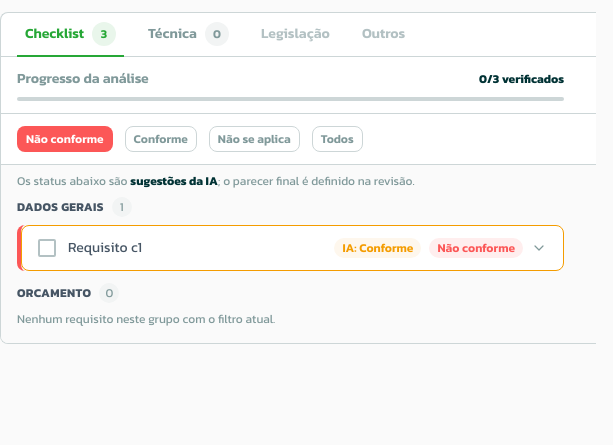
Test case: PainelRevisao › filtro por status (RF-009) › clicar em 'Todos' revela todos os requisitos e grava ?requisitos=todos na URL
Click the button "Todos": coordinates (337, 139) [312,126,363,152]
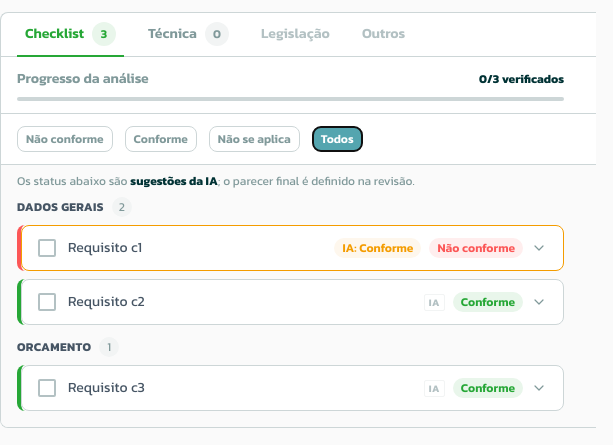
Expected: the text "Requisito c1" is shown, [68,237,142,258]
Expected: the text "Requisito c2" is shown, [68,291,145,312]
Expected: the text "Requisito c3" is shown, [68,377,145,398]
